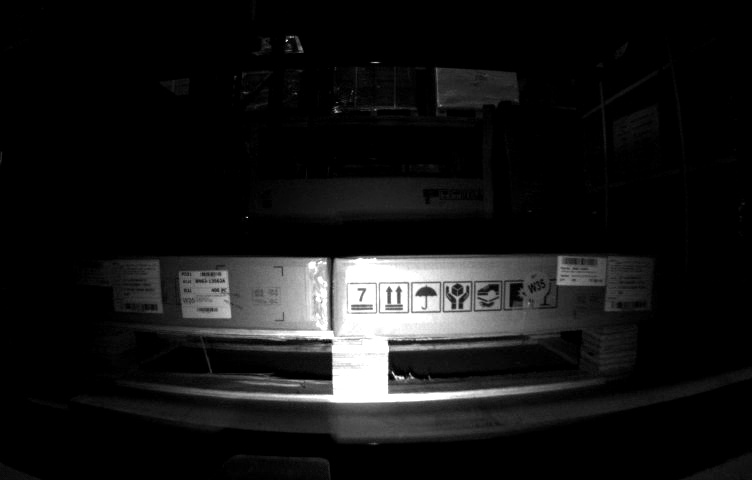True Barcode: (178, 270, 233, 318)
